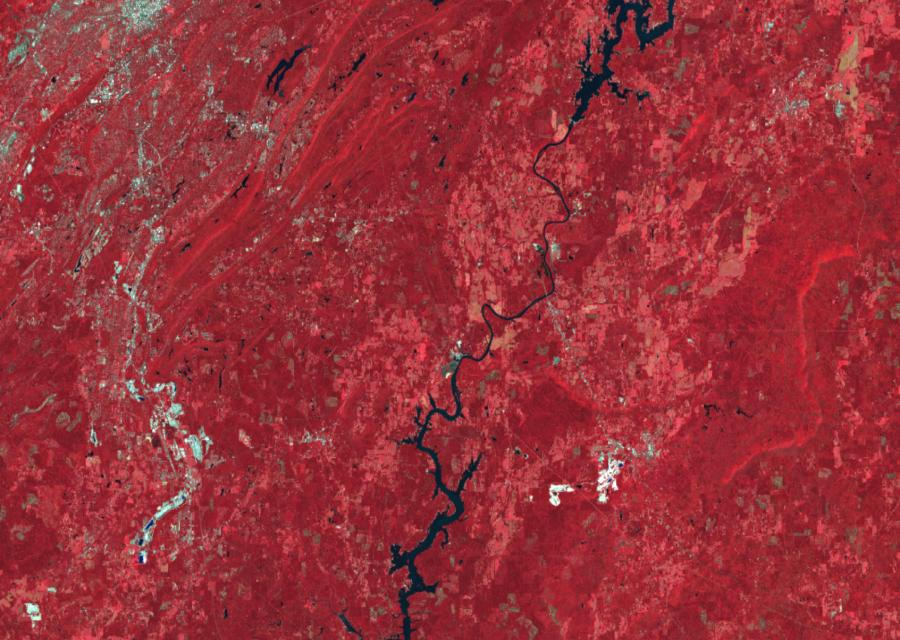Potential Lime Manufacturing Facility: (138, 486, 192, 566), (167, 404, 207, 463)
